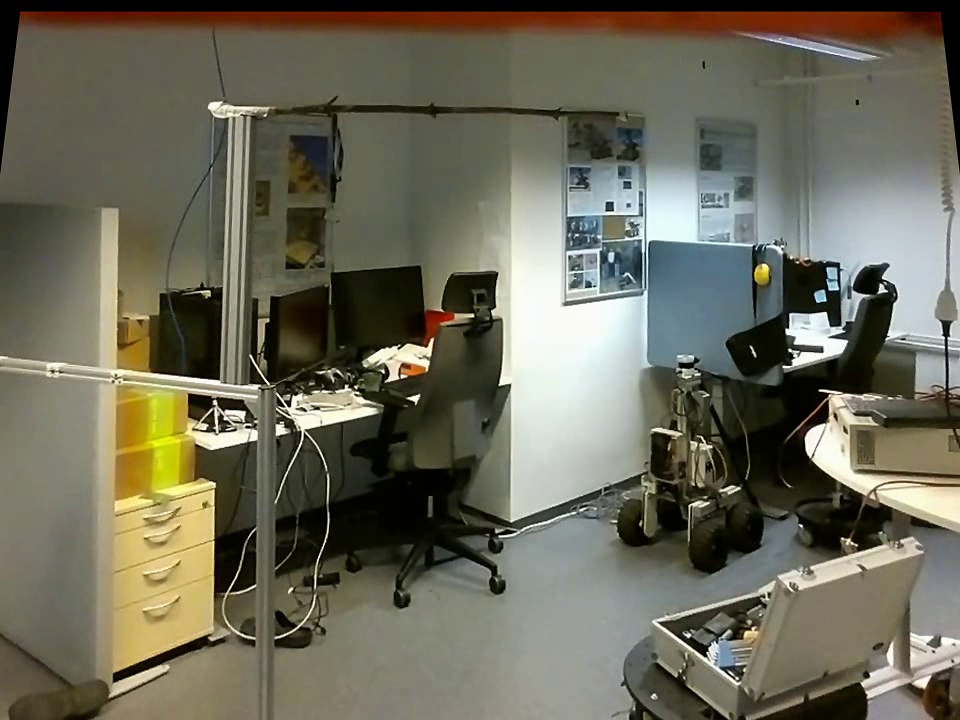aluminum_frame: (1, 351, 257, 402), (247, 382, 279, 718), (216, 118, 254, 385)
branch: (264, 85, 617, 128)
